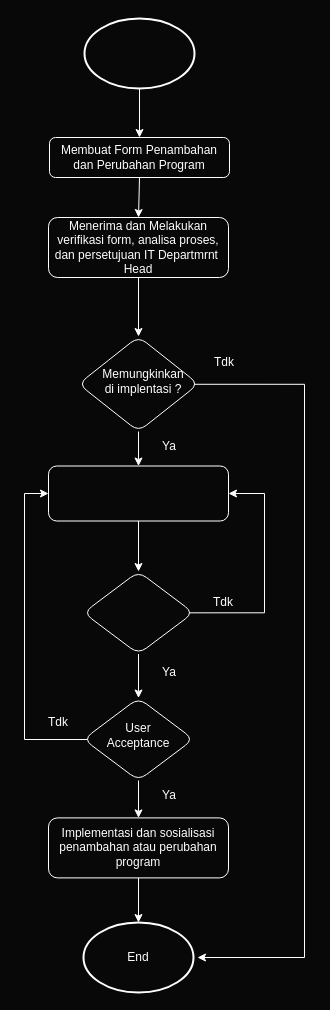
Image size: 330x1010. Some labels were removed from this diagram. The shapes that lost their labels are listed below. From the top down, each one's box as (x1, y1, x2, y2) in pixels, then its label:
(83, 17, 195, 89): Start
(48, 465, 228, 521): Melakukan penambahan atau perubahan program sesuai permintaan user
(82, 570, 194, 654): Trial and Error Test OK ?
